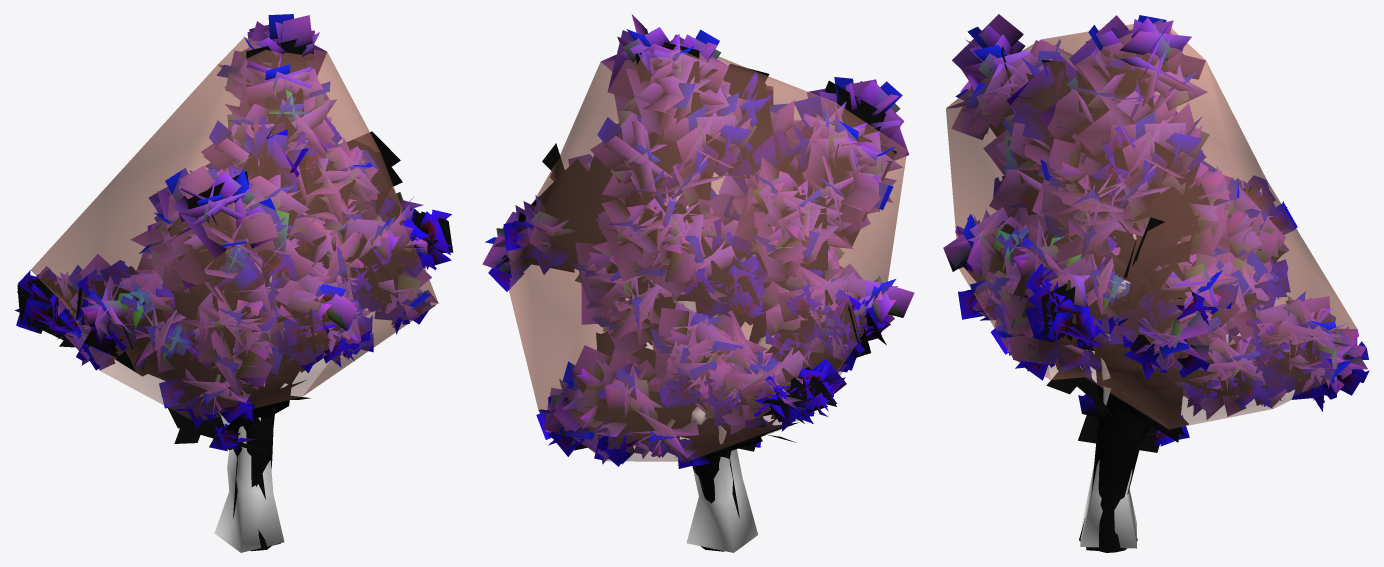
The model's file is tree_oak_large_b.dae.
3 views of the same model, side by side, from view 1: azimuth 30°, elevation 25°; view 2: azimuth 150°, elevation 25°; view 3: azimuth 270°, elevation 25° (orthographic). The views are drawn at different scales.
Visible parts, largest first — view 1: Colmesh_large_02-1, OakLarge_02_a1100, OakLarge_02_a2300; view 2: Colmesh_large_02-1, OakLarge_02_a1100, OakLarge_02_a2300; view 3: Colmesh_large_02-1, OakLarge_02_a2300, OakLarge_02_a1100.
Boxes of the visible parts, x1,y1,x2,y2 form: Colmesh_large_02-1: (31, 37, 438, 552); OakLarge_02_a1100: (15, 14, 453, 550); OakLarge_02_a2300: (17, 39, 451, 550); Colmesh_large_02-1: (508, 43, 906, 552); OakLarge_02_a1100: (482, 14, 914, 550); OakLarge_02_a2300: (482, 27, 913, 551); Colmesh_large_02-1: (946, 19, 1357, 548); OakLarge_02_a2300: (943, 19, 1369, 552); OakLarge_02_a1100: (943, 14, 1368, 552).
Bounding box in the file's own units: 12.23 × 11.22 × 15.9.
